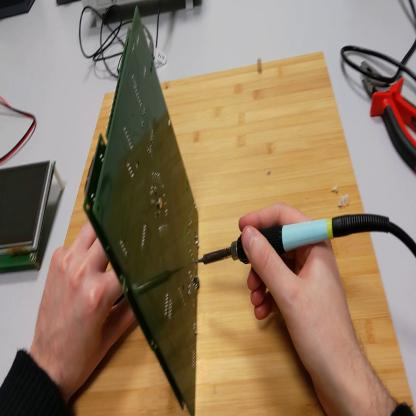hand: (239, 205, 362, 388), (32, 216, 136, 393)
oscilloscope: (85, 2, 198, 31)
pliers: (363, 60, 416, 176)
socket: (1, 2, 36, 24), (59, 2, 79, 9)
welder probe tip: (194, 213, 391, 268)
working area: (64, 43, 416, 415)
